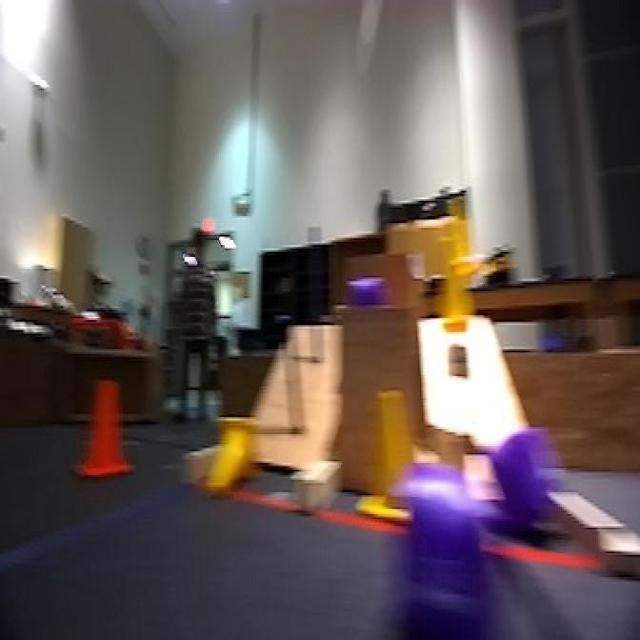frc_cone: (357, 385, 412, 512), (194, 419, 258, 495), (444, 226, 472, 332), (447, 192, 479, 274)
frc_cube: (409, 482, 506, 628), (492, 419, 566, 534), (339, 272, 392, 312)
